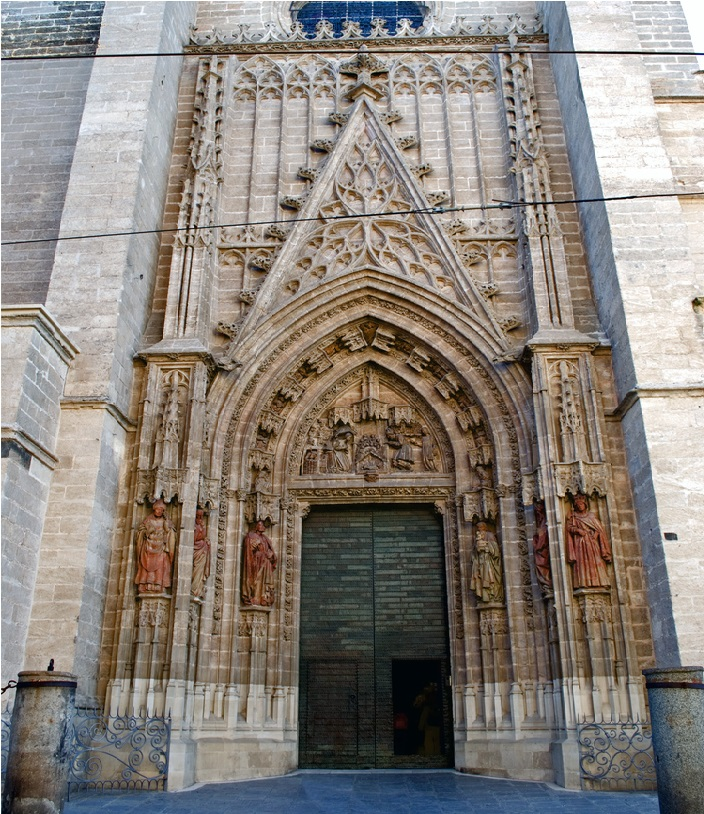arco-apuntado: (238, 259, 484, 477)
